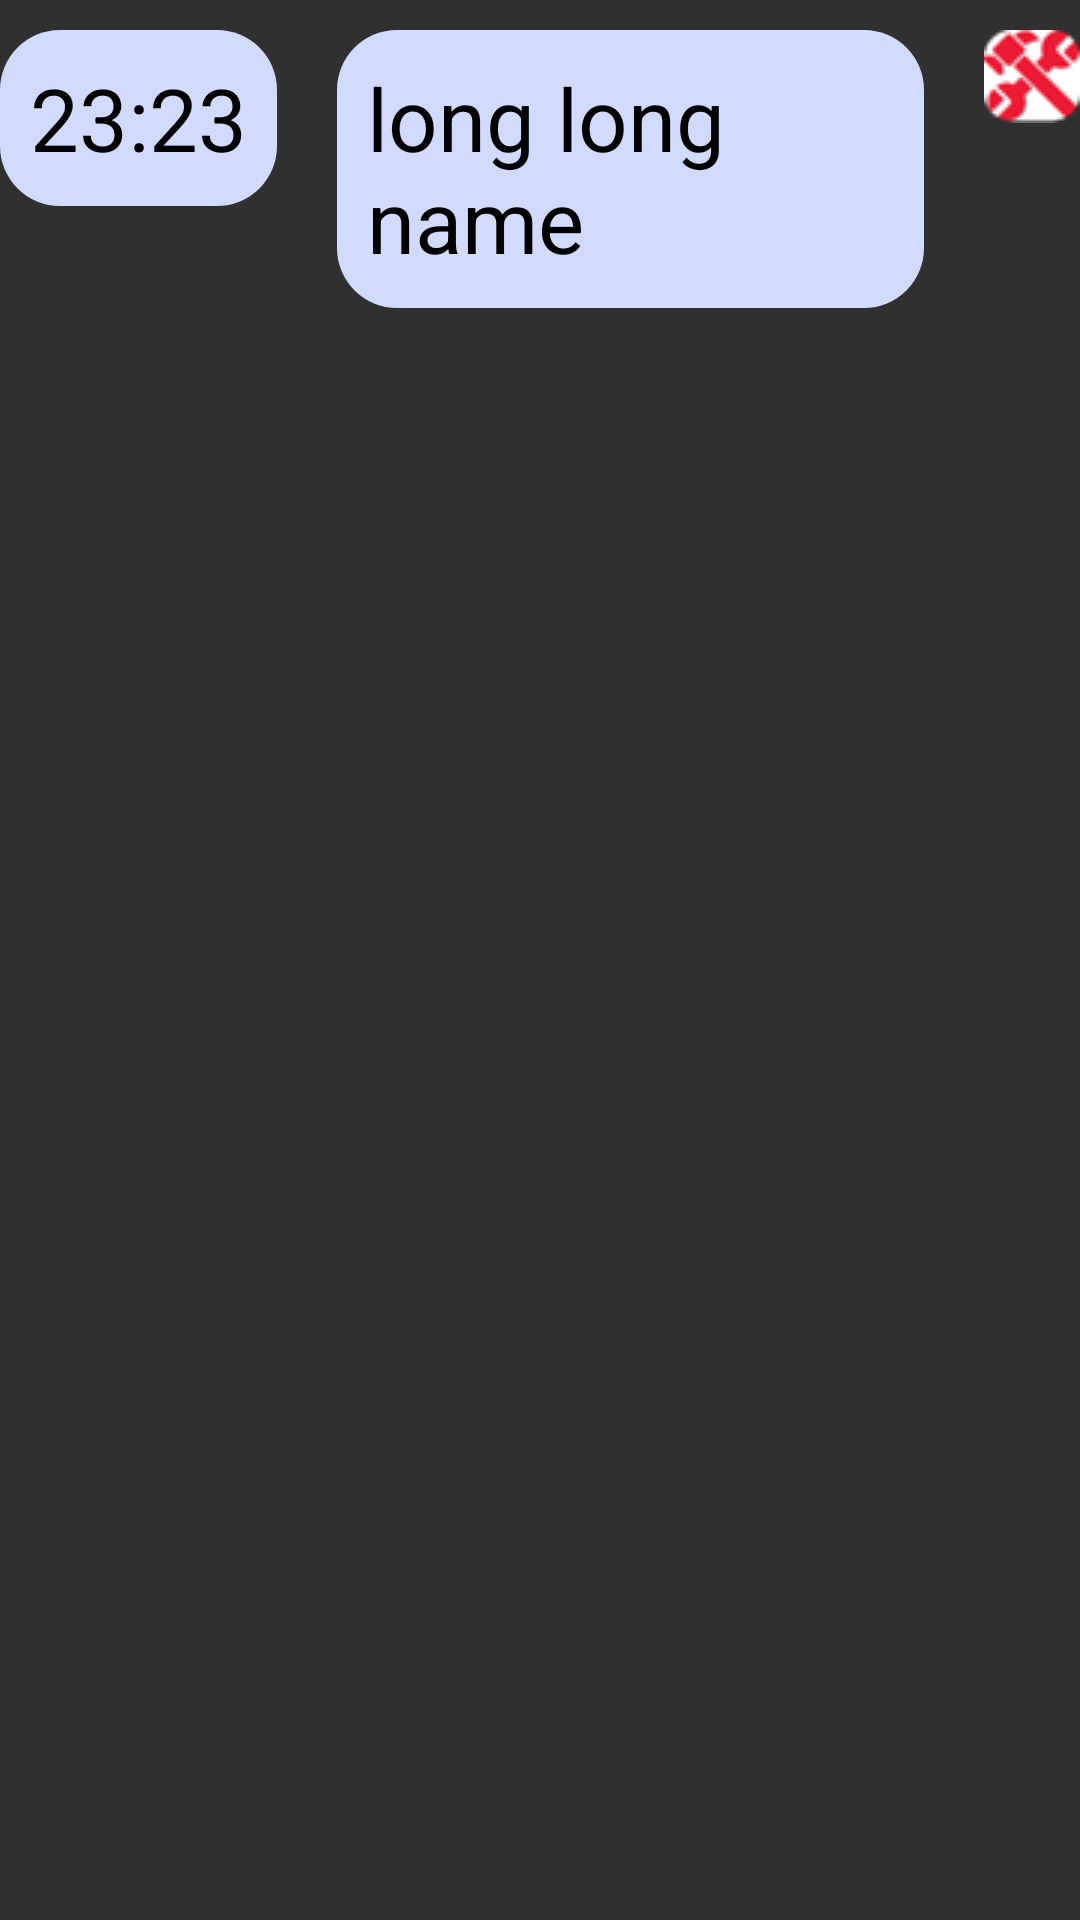

Icon bounding boxes for this 1080px×1920px phone screenshot, format {"left": x1, "top": y1, "right": x2, "bottom": y2}:
job: {"left": 984, "top": 30, "right": 1080, "bottom": 123}
